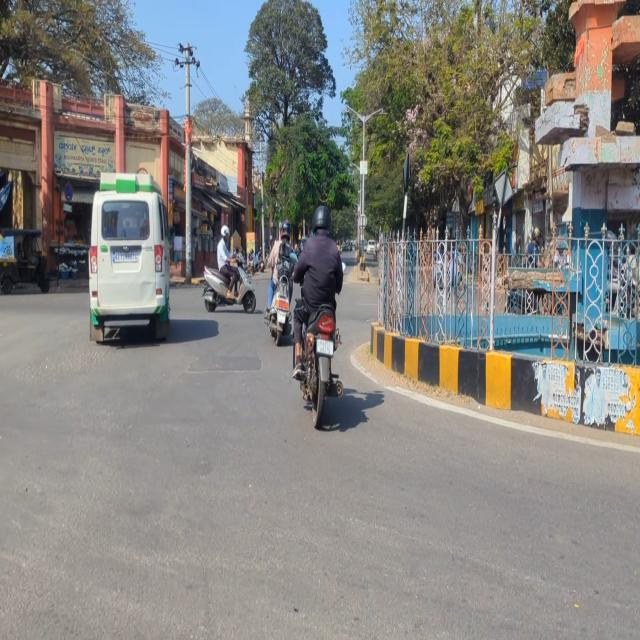bien_cam: (64, 179, 73, 204)
